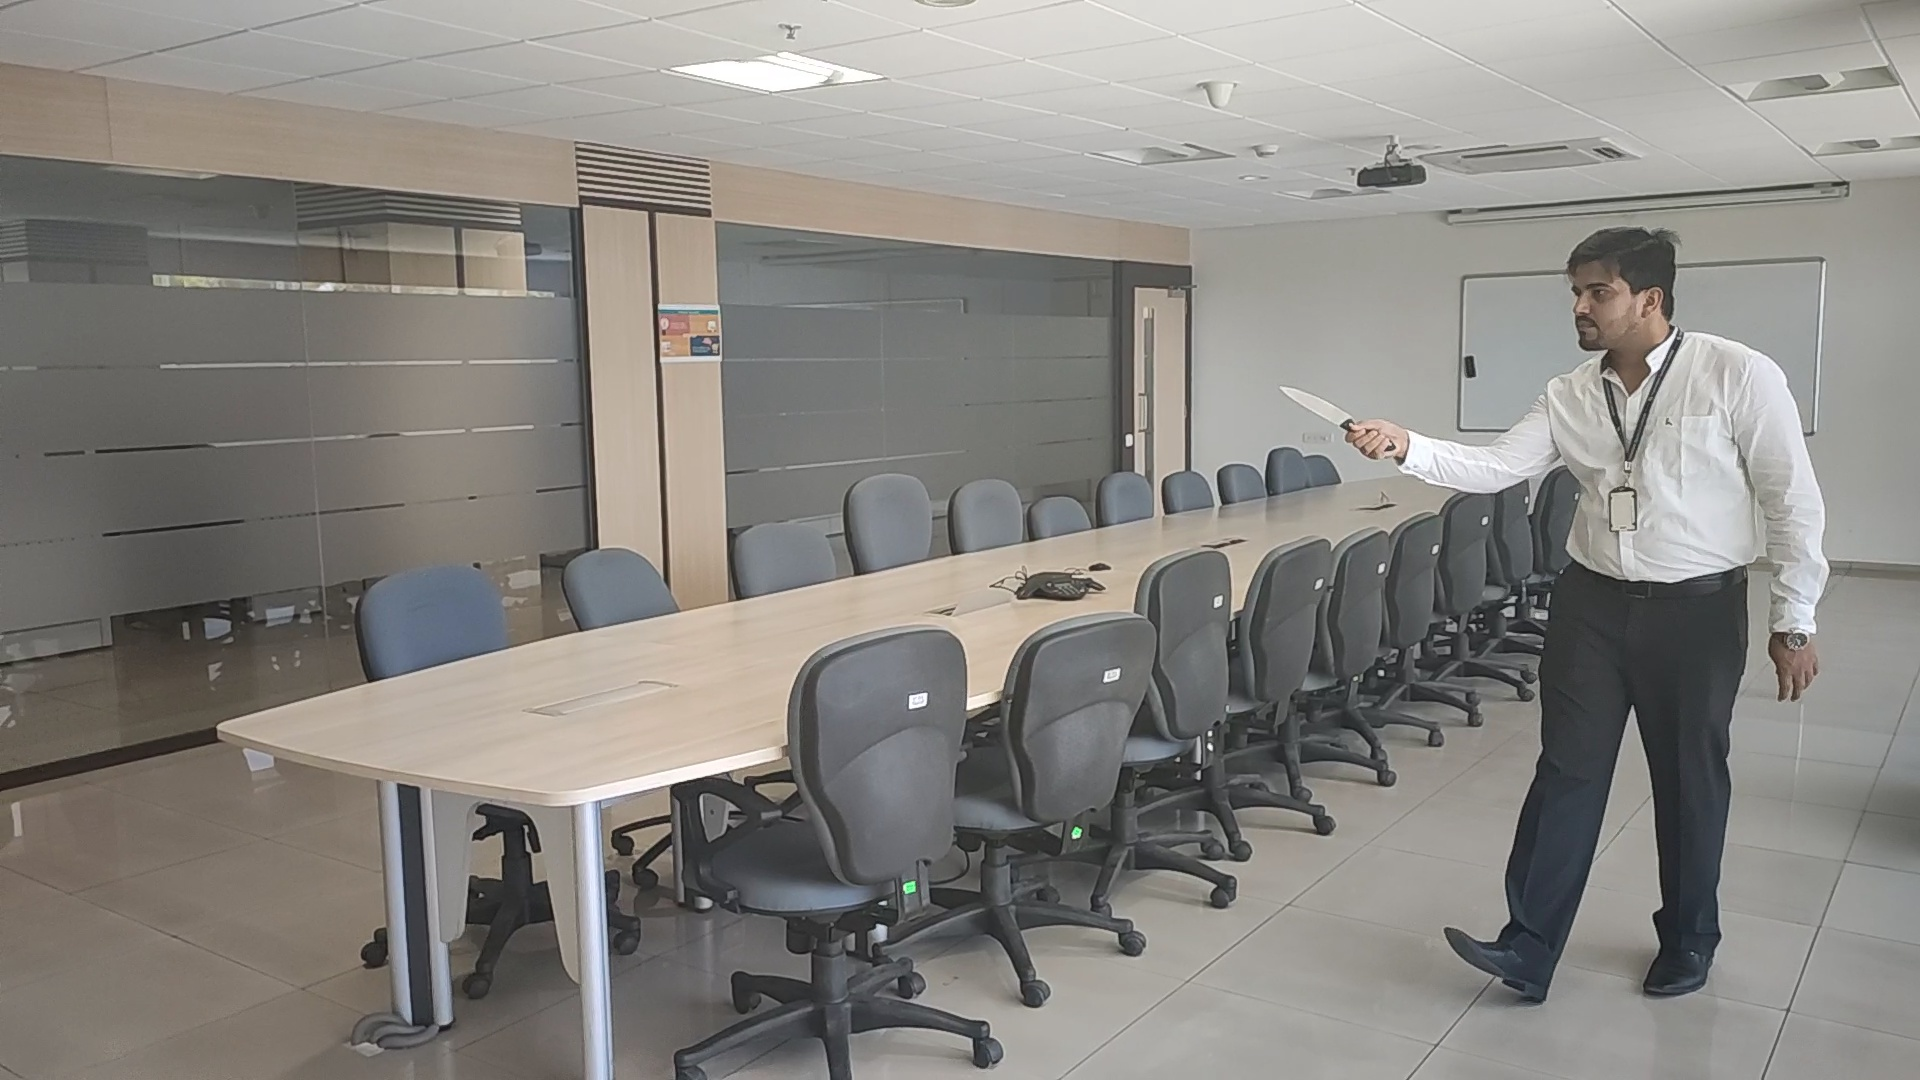knife: (1276, 382, 1353, 430)
